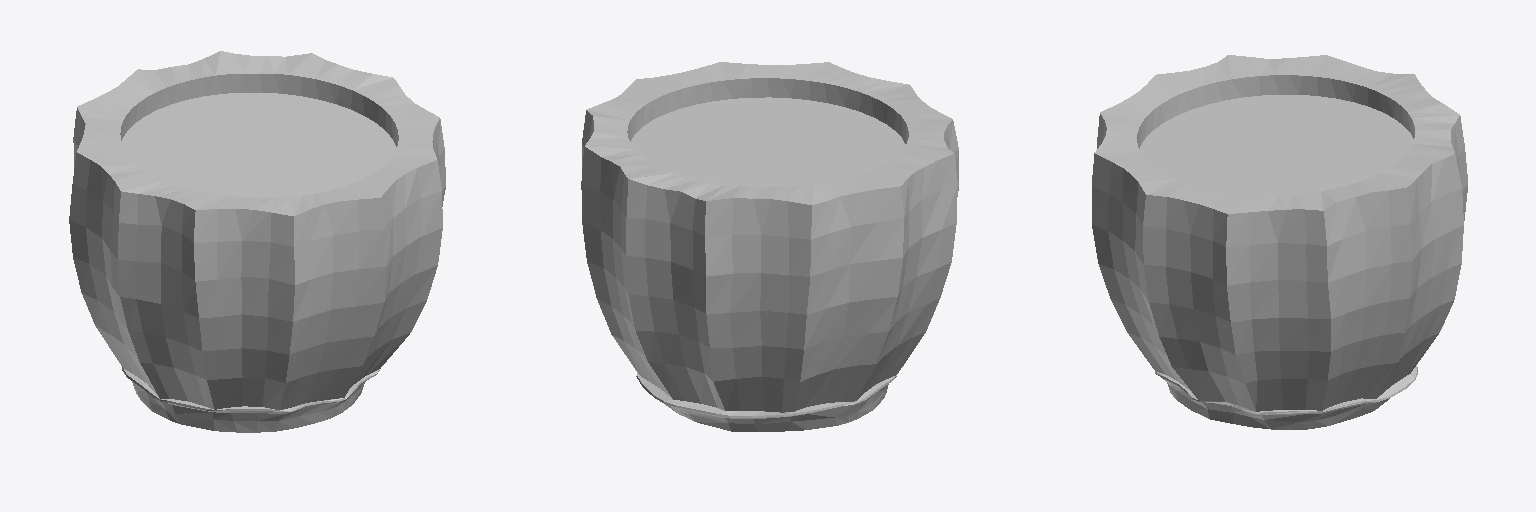
3 renders of one model, left to right at view 1: azimuth 30°, elevation 25°; view 2: azimuth 150°, elevation 25°; view 3: azimuth 270°, elevation 25°, orthographic.
Parts seen in each view (by area): view 1: Bistro_Research_Exterior_Paris_PlantPot_01A3_6141; view 2: Bistro_Research_Exterior_Paris_PlantPot_01A3_6141; view 3: Bistro_Research_Exterior_Paris_PlantPot_01A3_6141.
Boxes of the visible parts, x1,y1,x2,y2 form: Bistro_Research_Exterior_Paris_PlantPot_01A3_6141: [69, 51, 445, 432]; Bistro_Research_Exterior_Paris_PlantPot_01A3_6141: [581, 62, 958, 431]; Bistro_Research_Exterior_Paris_PlantPot_01A3_6141: [1092, 55, 1467, 429].
Bounding box in the file's own units: 0.9903 × 0.7481 × 0.9876.